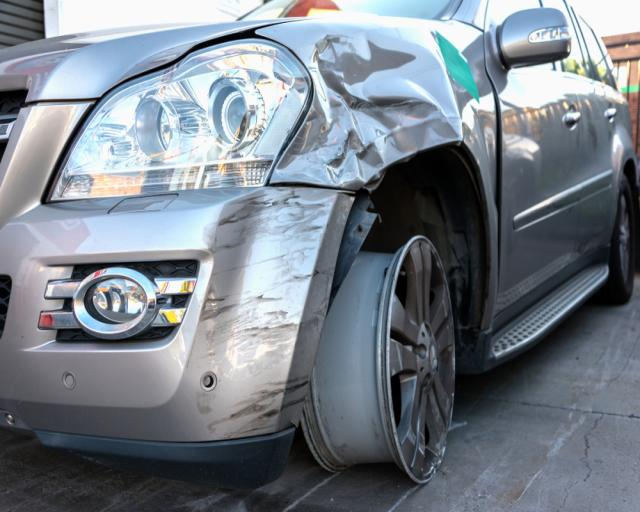dent: (278, 28, 463, 184)
scratch: (194, 185, 353, 441)
